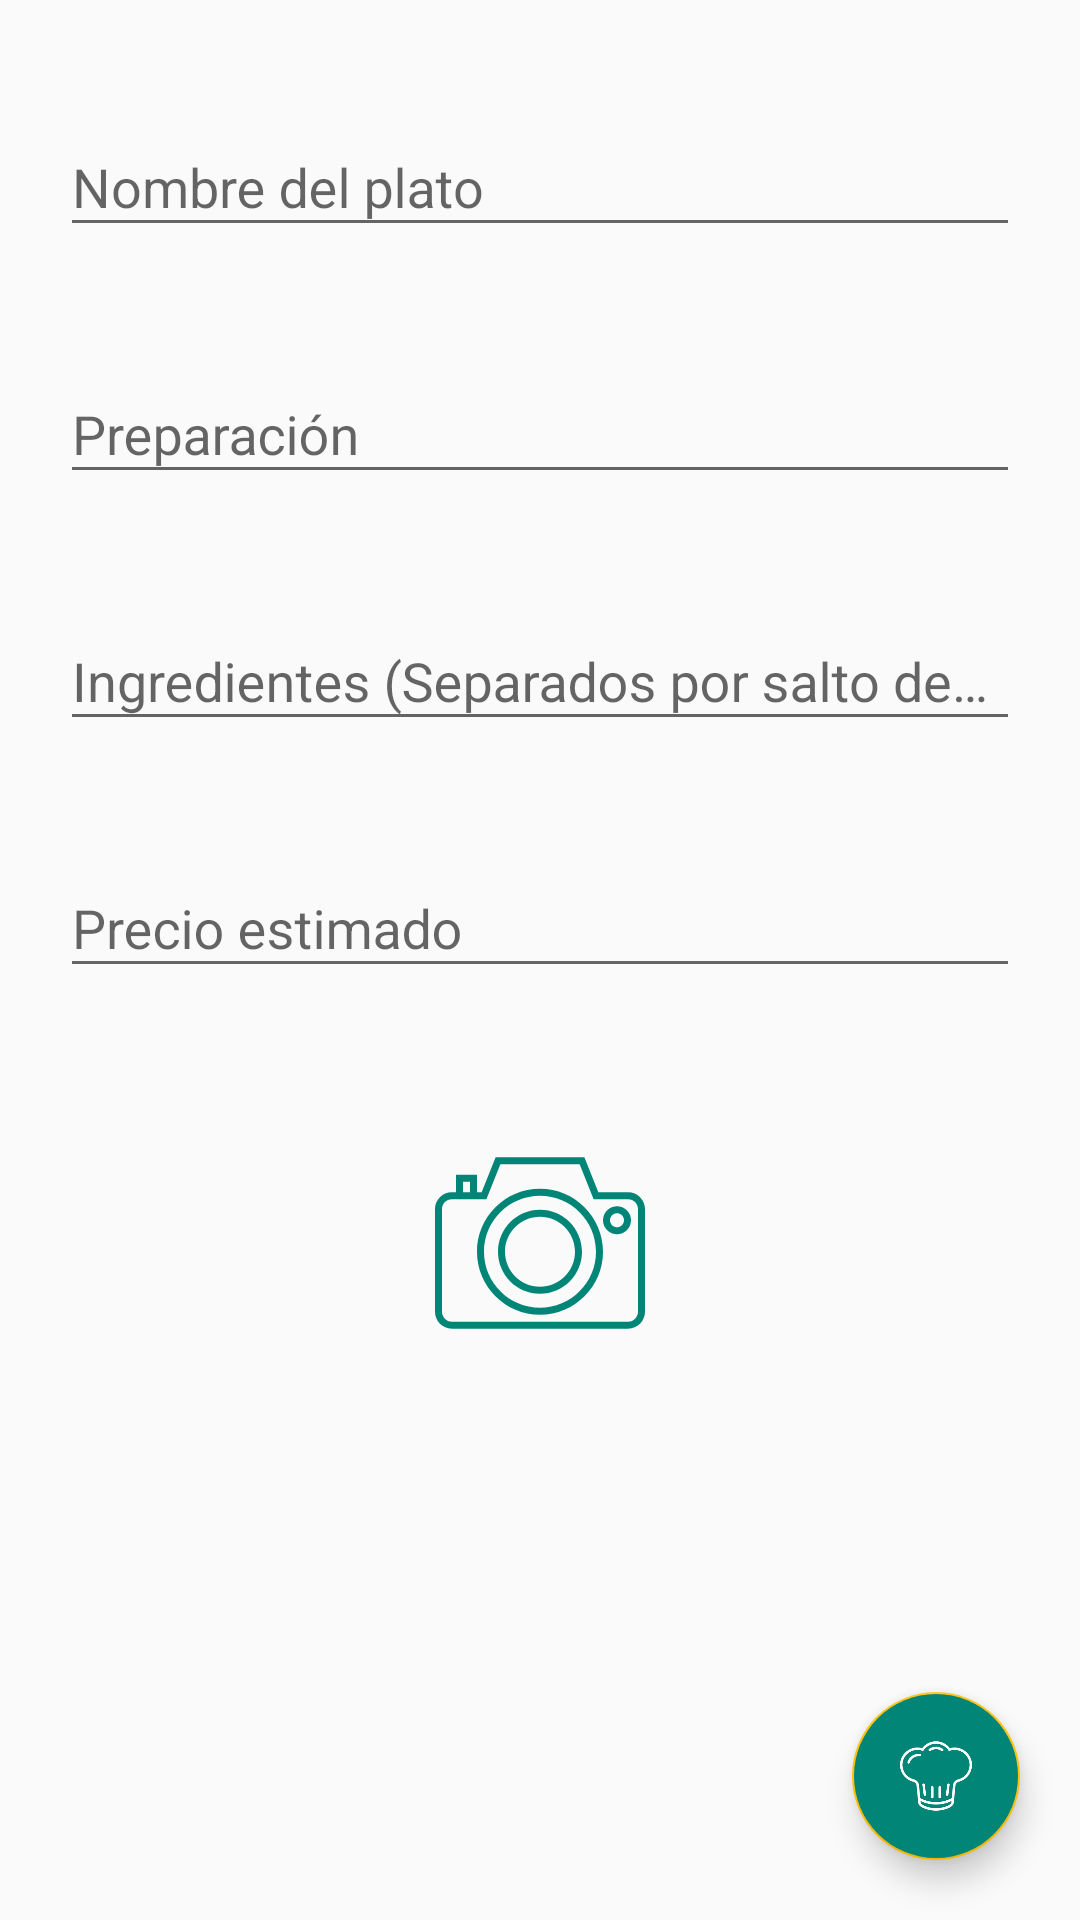

Where to tap for icons on this 1080w x 1920h app screen, as (x=x, y=y):
camera: (x=540, y=1243)
chef: (x=936, y=1776)
